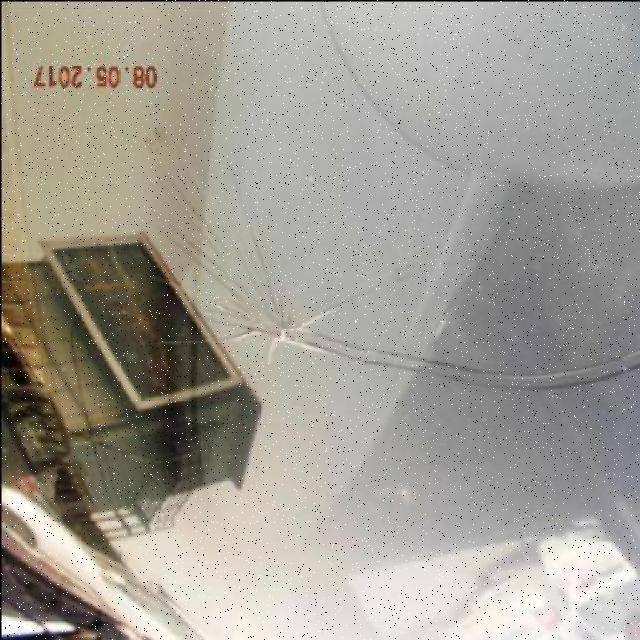damage: (165, 219, 340, 372)
